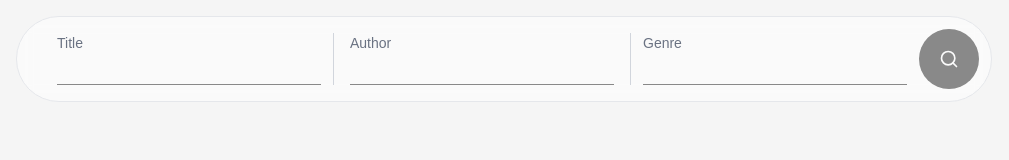
it: SearchForm › clears error when user types
Click the field labelled "Title" at {"x": 189, "y": 69}, box [57,53,321,85]
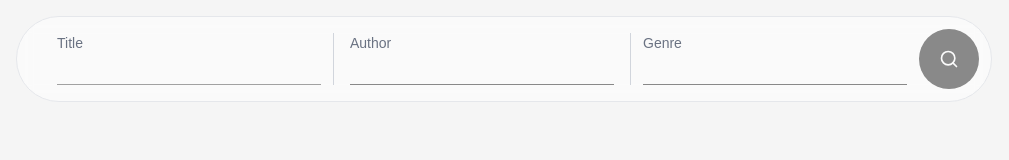
Press Enter
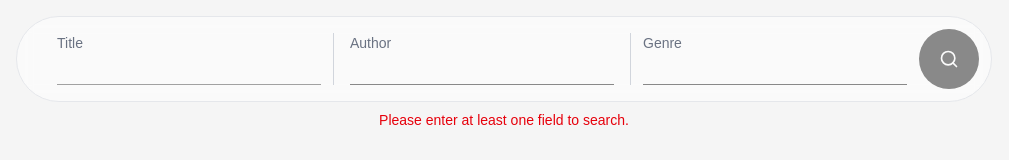
Type "Harry" into the field labelled "Title" at {"x": 189, "y": 69}, box [57,53,321,85]
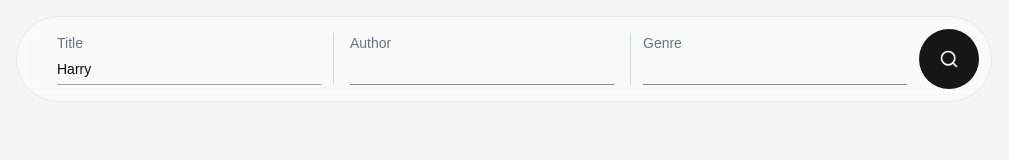
Check: the text "Please enter at least one field" is gone
